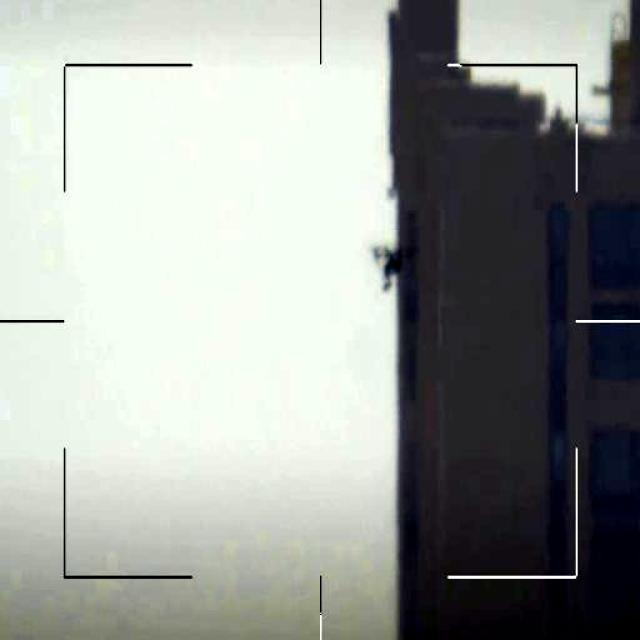bird: (366, 235, 425, 302)
